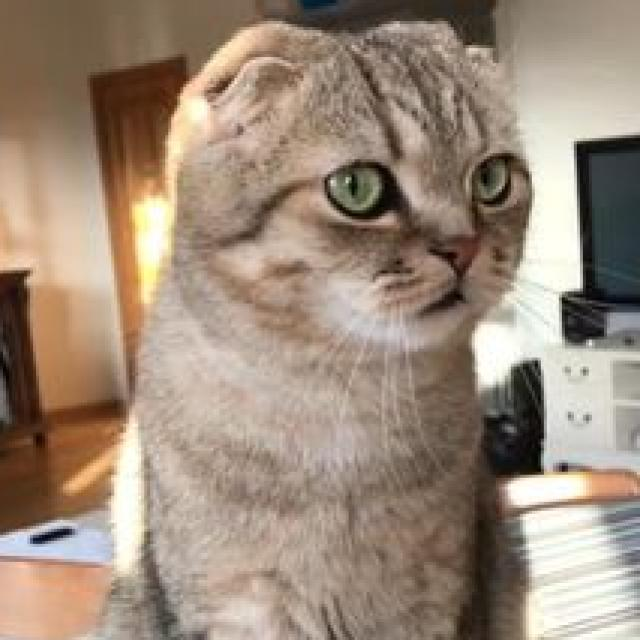Scottish Fold: (81, 9, 571, 640)
